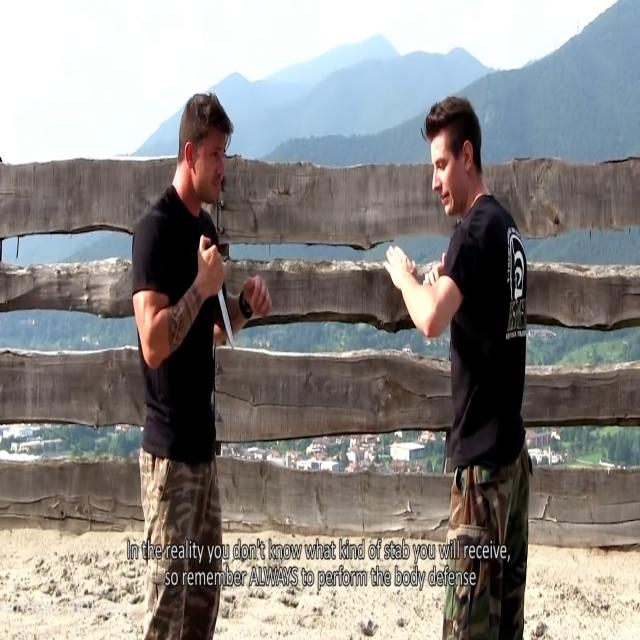knife: (219, 290, 239, 351)
